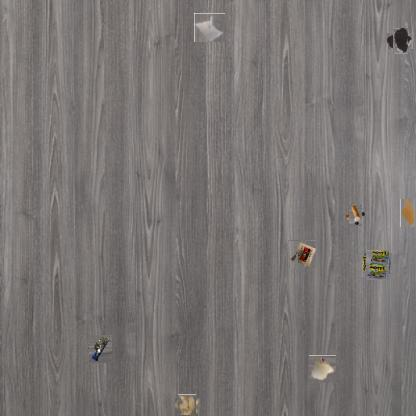dirty: (194, 13, 225, 42), (288, 240, 316, 268), (309, 355, 336, 383), (364, 252, 390, 278), (87, 336, 113, 362), (176, 396, 198, 416), (346, 206, 364, 224)
liquid: (389, 31, 411, 52), (400, 199, 415, 227)
